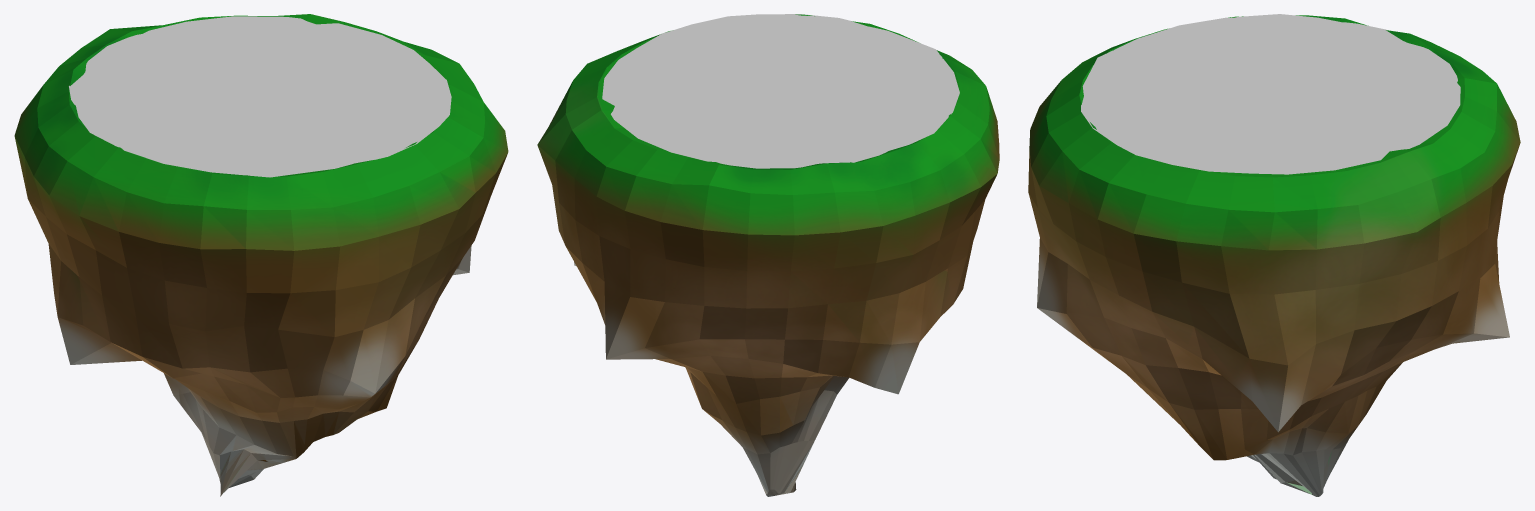
File: FootballIsalndX.fbx
3 renders of one model, left to right at view 1: azimuth 30°, elevation 25°; view 2: azimuth 150°, elevation 25°; view 3: azimuth 270°, elevation 25°, orthographic. The views are drawn at different scales.
Visible parts, largest first — view 1: Sphere, Plane; view 2: Sphere, Plane; view 3: Sphere, Plane.
Part boxes in pixels (<box>): Sphere: <box>14,14,508,496</box>; Plane: <box>69,16,451,177</box>; Sphere: <box>537,14,999,496</box>; Plane: <box>602,14,959,168</box>; Sphere: <box>1028,15,1520,496</box>; Plane: <box>1081,14,1460,174</box>.
Size of the model in its own units: 1400 by 1293 by 1403.
